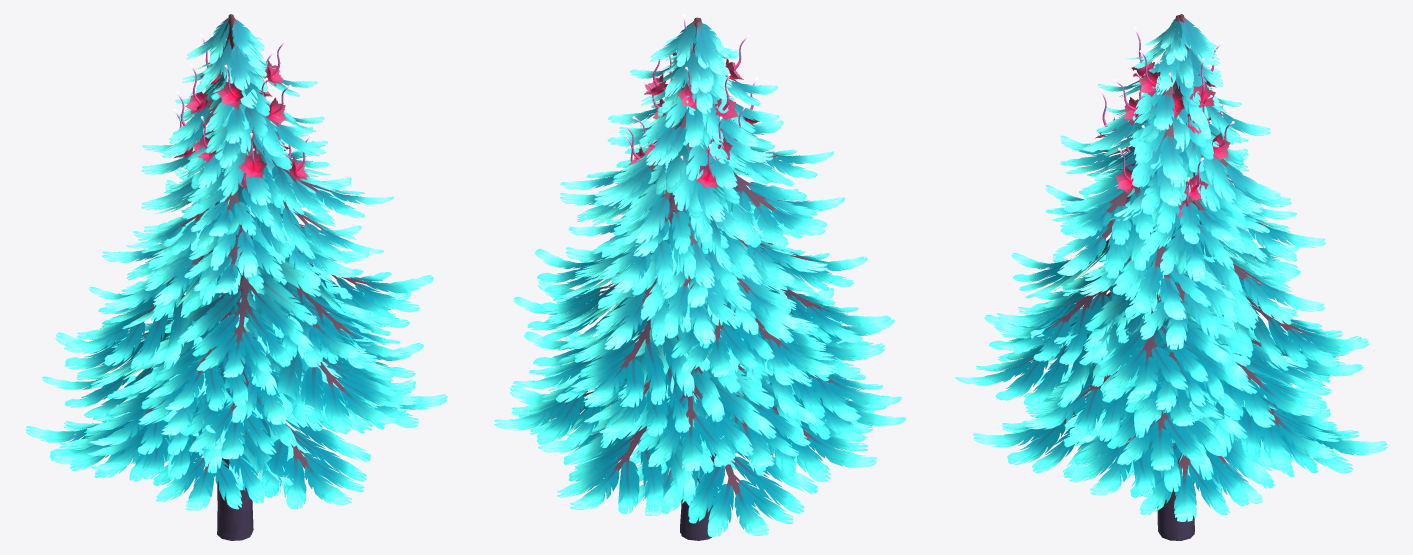
Rendered from EXP_Tree_Pine.fbx.
3 renders of one model, left to right at view 1: azimuth 30°, elevation 25°; view 2: azimuth 150°, elevation 25°; view 3: azimuth 270°, elevation 25°, orthographic.
Visible parts, largest first — view 1: OBJ_Tree_Pine_02_lod0, OBJ_Tree_Pine_Bloom_01_lod0, OBJ_Tree_Pine_01_lod0, OBJ_Tree_Pine_Bloom_02_lod0; view 2: OBJ_Tree_Pine_Bloom_01_lod0, OBJ_Tree_Pine_02_lod0, OBJ_Tree_Pine_Bloom_02_lod0, OBJ_Tree_Pine_01_lod0; view 3: OBJ_Tree_Pine_Bloom_01_lod0, OBJ_Tree_Pine_02_lod0, OBJ_Tree_Pine_Bloom_02_lod0, OBJ_Tree_Pine_01_lod0.
Part boxes in pixels (left/top/right/bottom): OBJ_Tree_Pine_02_lod0: left=43, top=16, right=433, bottom=539; OBJ_Tree_Pine_Bloom_01_lod0: left=26, top=14, right=447, bottom=537; OBJ_Tree_Pine_01_lod0: left=25, top=25, right=446, bottom=540; OBJ_Tree_Pine_Bloom_02_lod0: left=42, top=18, right=432, bottom=508; OBJ_Tree_Pine_Bloom_01_lod0: left=494, top=17, right=888, bottom=532; OBJ_Tree_Pine_02_lod0: left=514, top=18, right=906, bottom=513; OBJ_Tree_Pine_Bloom_02_lod0: left=513, top=14, right=904, bottom=538; OBJ_Tree_Pine_01_lod0: left=494, top=24, right=888, bottom=540; OBJ_Tree_Pine_Bloom_01_lod0: left=973, top=14, right=1386, bottom=521; OBJ_Tree_Pine_02_lod0: left=955, top=15, right=1361, bottom=537; OBJ_Tree_Pine_Bloom_02_lod0: left=960, top=20, right=1363, bottom=538; OBJ_Tree_Pine_01_lod0: left=973, top=29, right=1387, bottom=540.
Size of what is drawn, in the model's own units: 389 by 503 by 397.
Materials: 1 (1 with a texture image).
